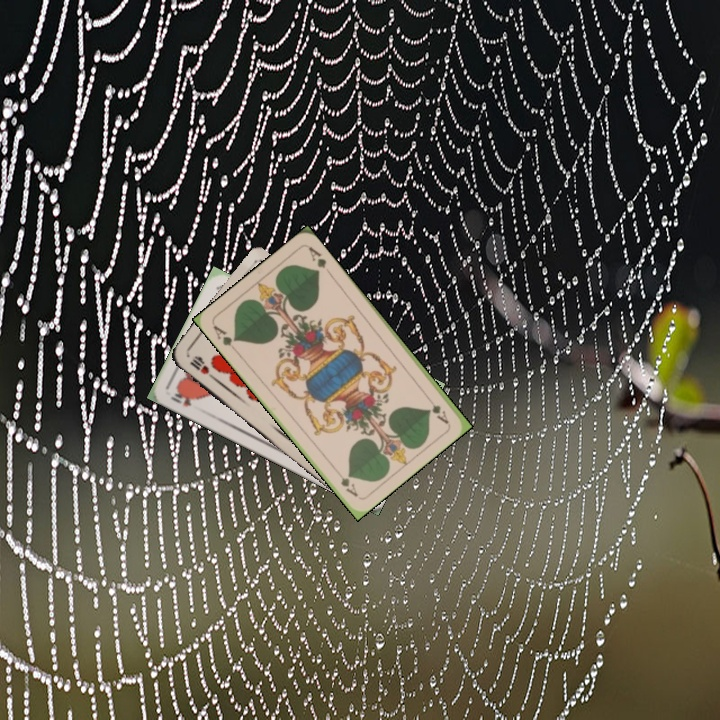GA: (209, 321, 240, 355), (421, 391, 451, 426)
H10: (186, 353, 218, 382)
HO: (167, 387, 198, 410)
